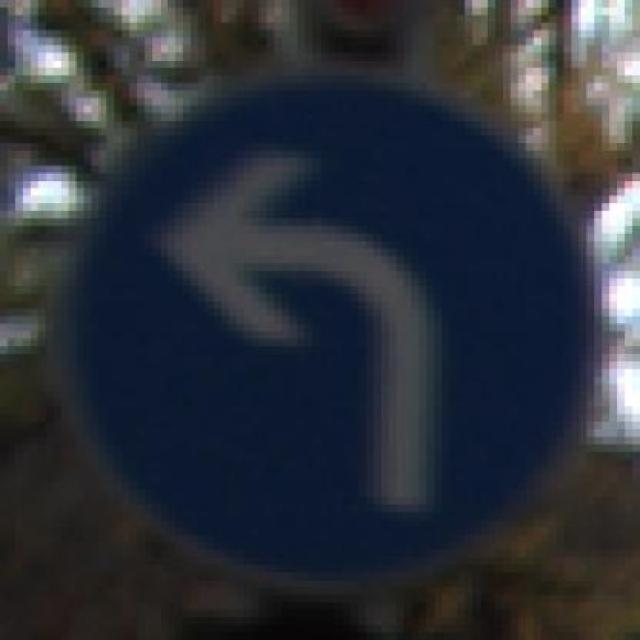Turn left ahead: (60, 68, 618, 580)
